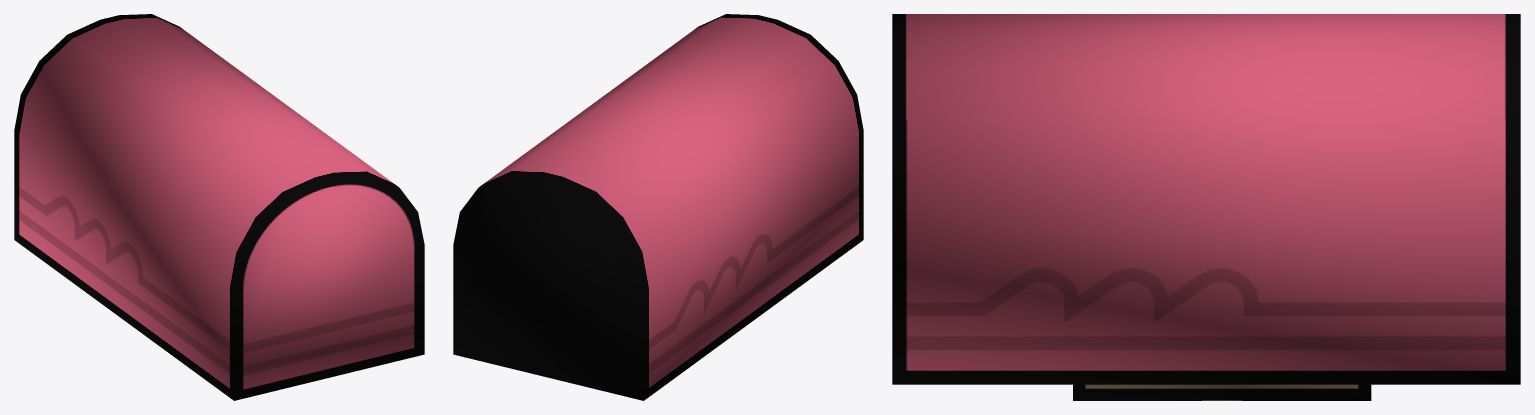
The model's file is box-top-pink.glb.
3 views of the same model, side by side, from view 1: azimuth 30°, elevation 25°; view 2: azimuth 150°, elevation 25°; view 3: azimuth 270°, elevation 25° (orthographic). The views are drawn at different scales.
Parts seen in each view (by area): view 1: box-top-red; view 2: box-top-red; view 3: box-top-red.
Part boxes in pixels (box(x1,y1,x2,y2)): box-top-red: box(14, 14, 424, 400); box-top-red: box(453, 14, 863, 400); box-top-red: box(892, 14, 1520, 400).
Size of the model in its own units: 0.2 by 0.2347 by 0.4.
1 material, 1 textured.
